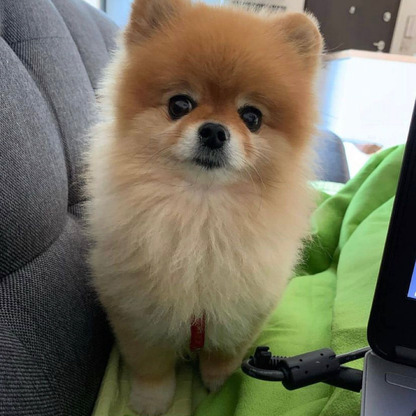Pomeranian: (94, 3, 333, 400)
